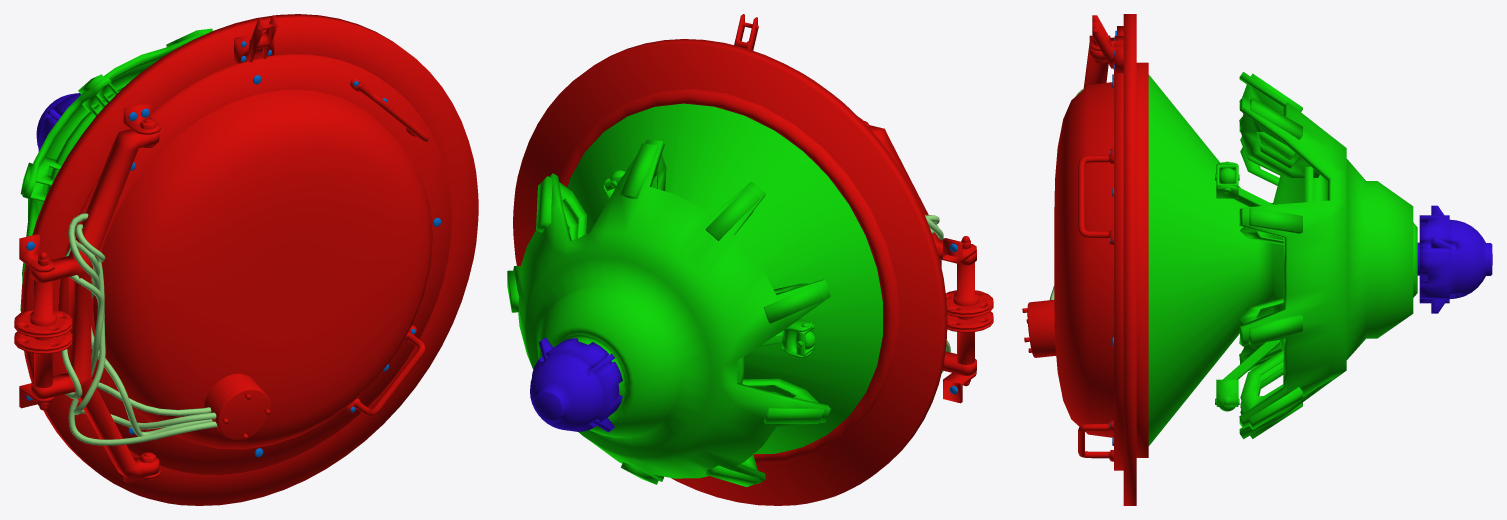
File: Luke.fbx
3 views of the same model, side by side, from view 1: azimuth 30°, elevation 25°; view 2: azimuth 150°, elevation 25°; view 3: azimuth 270°, elevation 25° (orthographic). The views are drawn at different scales.
Visible parts, largest first — view 1: Luke, Wiring.001, Drogue, Probe; view 2: Drogue, Luke, Probe; view 3: Drogue, Luke, Probe.
Part boxes in pixels (x1,y1,x2,y2): Luke: (14, 14, 478, 505); Wiring.001: (61, 213, 217, 445); Drogue: (20, 28, 212, 310); Probe: (36, 93, 80, 151); Drogue: (507, 103, 882, 486); Luke: (513, 14, 993, 505); Probe: (530, 337, 622, 432); Drogue: (1148, 72, 1417, 445); Luke: (1022, 14, 1148, 505); Probe: (1417, 205, 1492, 313).
Bounding box in the file's own units: 97.28 × 95.77 × 88.04.
